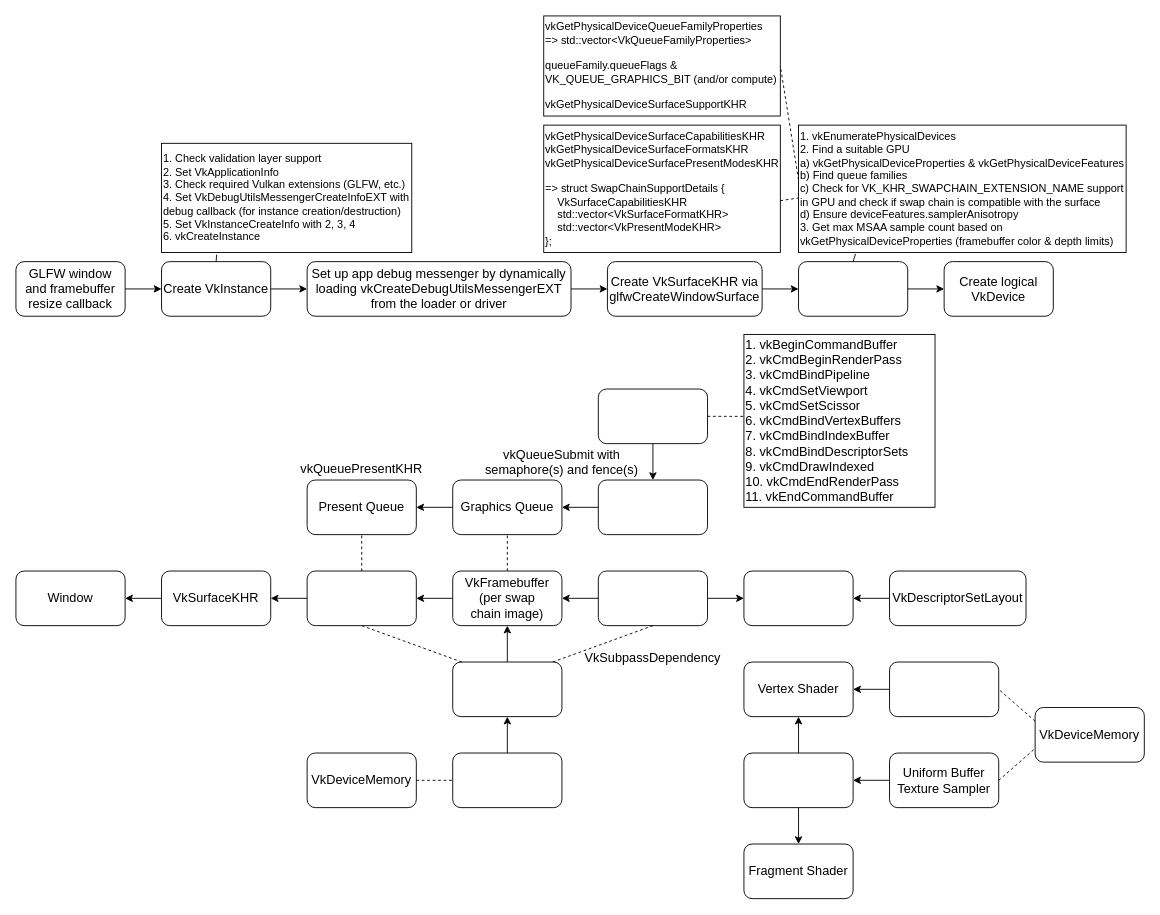
Some shapes in this 1160 by 915 pixel diagram are drawn without their labels. Here are the shapes that lost their labels. From the top down, the centre of each, then its label:
At (x=853, y=288): "Select VkPhysicalDevice".
At (x=652, y=416): "Draw Frame(s) (CPU)".
At (x=652, y=507): "Command Buffer (GPU)".
At (x=361, y=598): "VkSwapchainKHR".
At (x=652, y=598): "VkRenderPass".
At (x=798, y=598): "Graphics Pipeline".
At (x=507, y=689): "VkImageView attachments".
At (x=944, y=689): "Vertex Buffer(s) Index Buffer".
At (x=507, y=780): "Color VkImage Depth VkImage Resolve VkImage".
At (x=798, y=780): "VkDescriptorSets".
